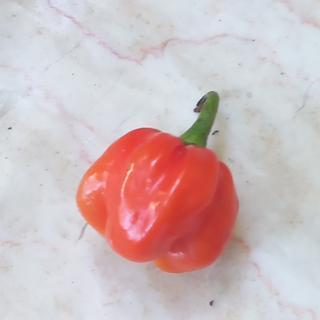Grade-B: (68, 124, 241, 273)
